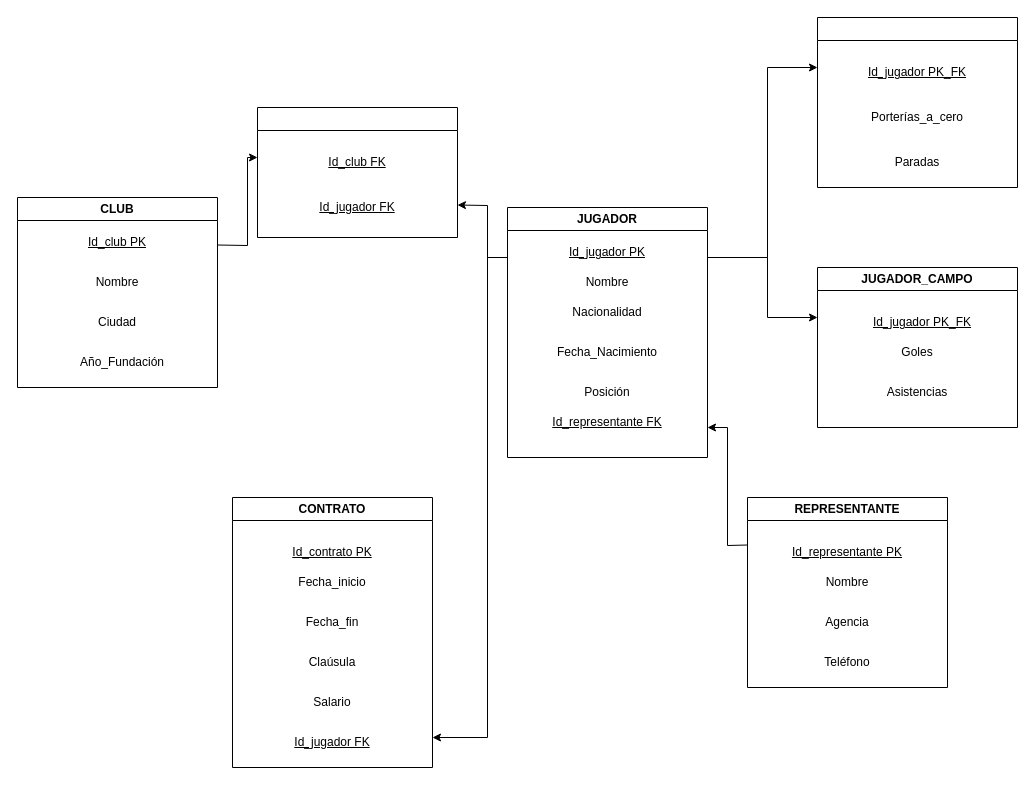
The diagram is 1035 pixels wide and 785 high, and some of its shapes have lost their labels. The box of each missing label's shape, as (x1, y1, x2, y2) in pixels:
FICHA: (256, 106, 458, 238)
PORTERO: (816, 16, 1018, 188)
